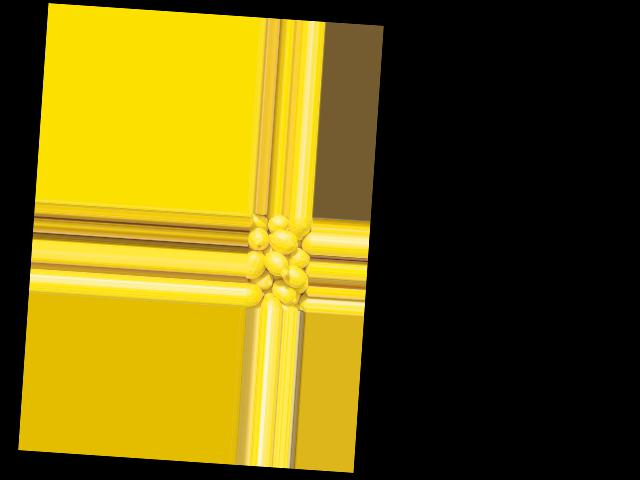lemon: (282, 266, 308, 291)
